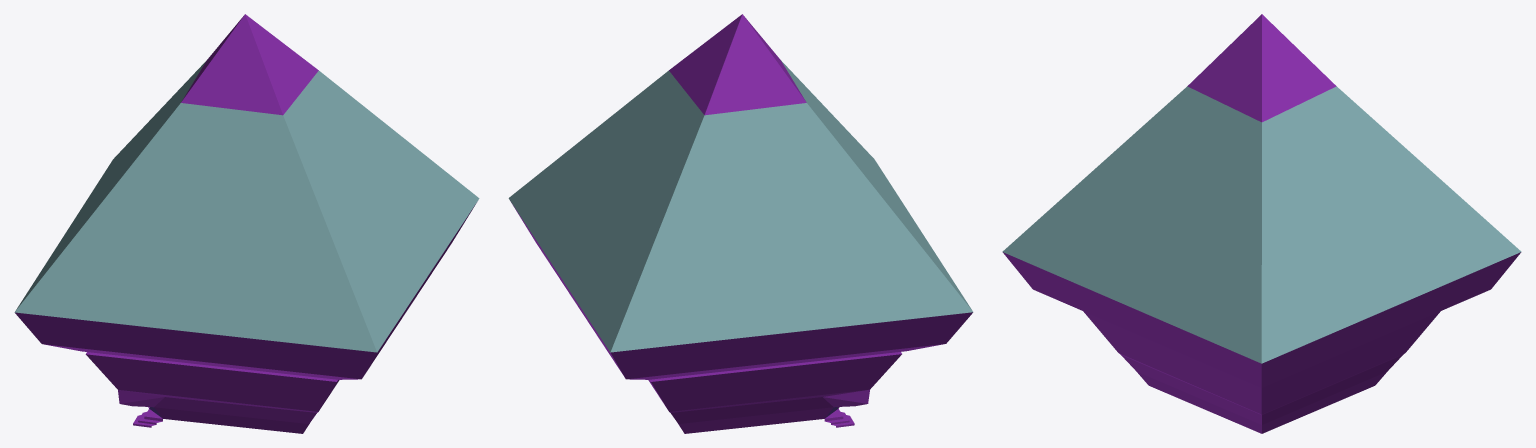
Rendered from NightClub_Seperated.fbx.
The picture shows the model from 3 angles, left to right: view 1: azimuth 30°, elevation 25°; view 2: azimuth 150°, elevation 25°; view 3: azimuth 270°, elevation 25°; orthographic projection.
Visible parts, largest first — view 1: BB_top, polySurface231, polySurface229, polySurface227, polySurface221, polySurface232; view 2: BB_top, polySurface231, polySurface229, polySurface227, polySurface221, polySurface232; view 3: BB_top, polySurface231, polySurface229, polySurface227, polySurface221.
Part boxes in pixels (bbox=[...]): BB_top: bbox=[14, 14, 479, 352]; polySurface231: bbox=[15, 203, 476, 379]; polySurface229: bbox=[86, 354, 339, 411]; polySurface227: bbox=[120, 397, 316, 433]; polySurface221: bbox=[187, 15, 317, 114]; polySurface232: bbox=[86, 352, 337, 418]; BB_top: bbox=[508, 14, 972, 352]; polySurface231: bbox=[511, 202, 972, 379]; polySurface229: bbox=[648, 354, 901, 411]; polySurface227: bbox=[671, 397, 866, 433]; polySurface221: bbox=[669, 15, 799, 114]; polySurface232: bbox=[649, 352, 901, 418]; BB_top: bbox=[1002, 14, 1521, 363]; polySurface231: bbox=[1002, 252, 1521, 387]; polySurface229: bbox=[1083, 311, 1440, 414]; polySurface227: bbox=[1121, 355, 1402, 433]; polySurface221: bbox=[1193, 15, 1333, 121].
Bounding box in the file's own units: 969 × 765 × 954.
